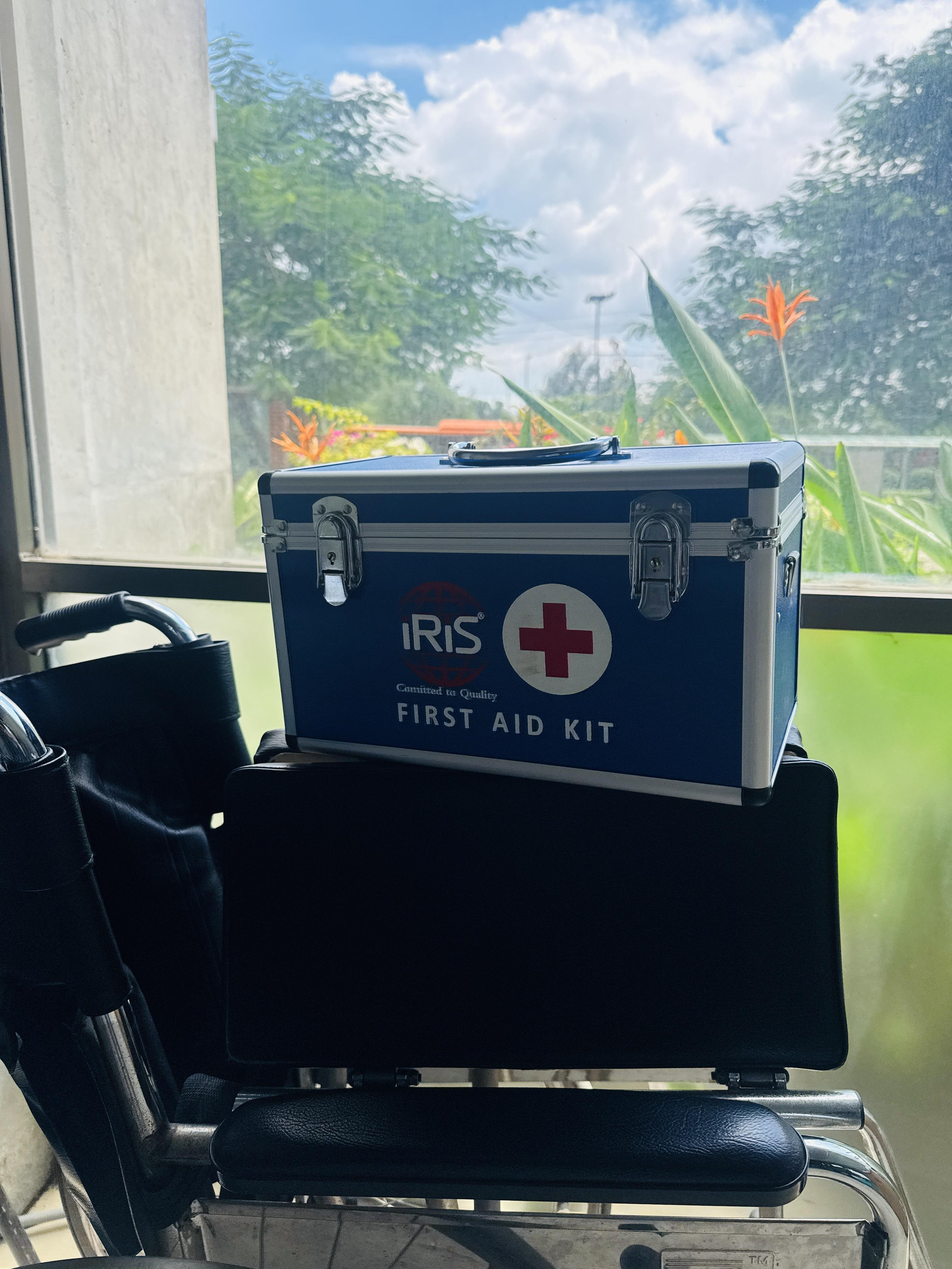FirstAidBox: (244, 407, 827, 833)
